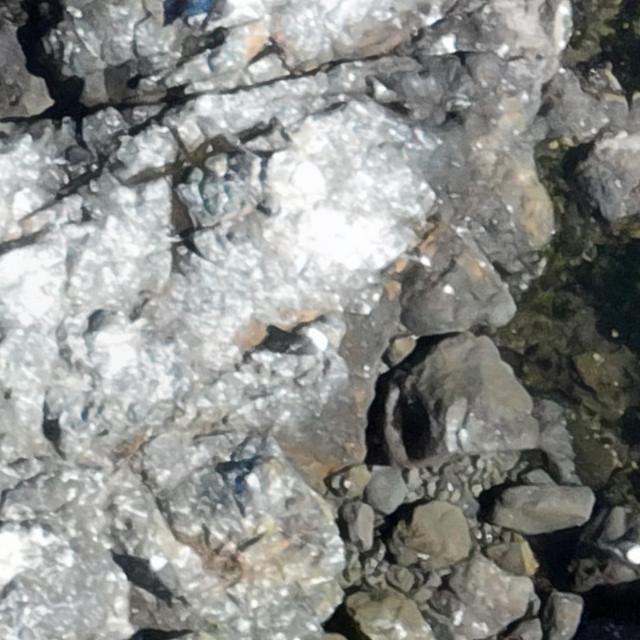umineko: (152, 559, 178, 593), (375, 82, 406, 104)
